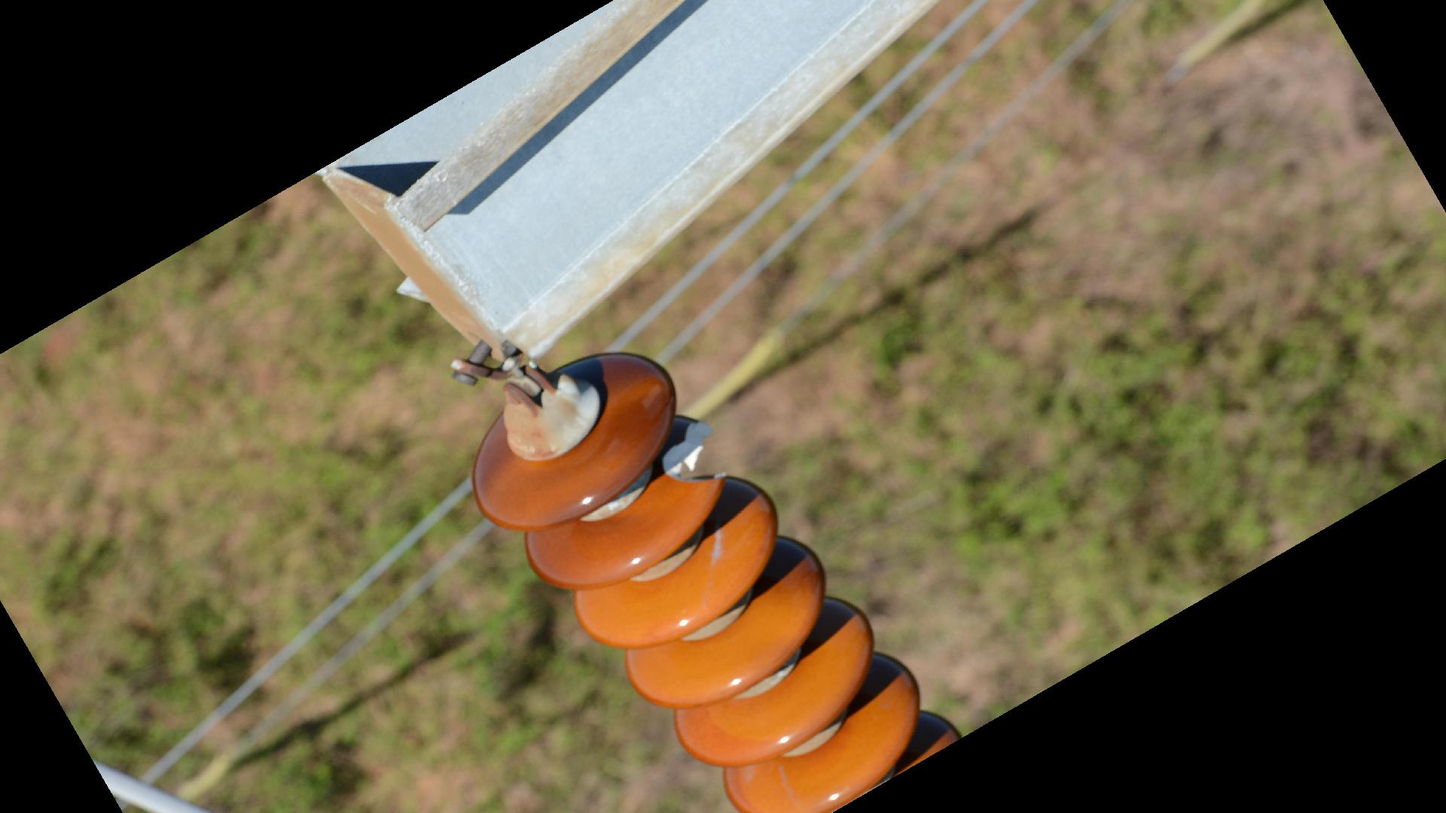insulator: (462, 346, 967, 813)
insulator_breakage: (657, 415, 731, 489)
